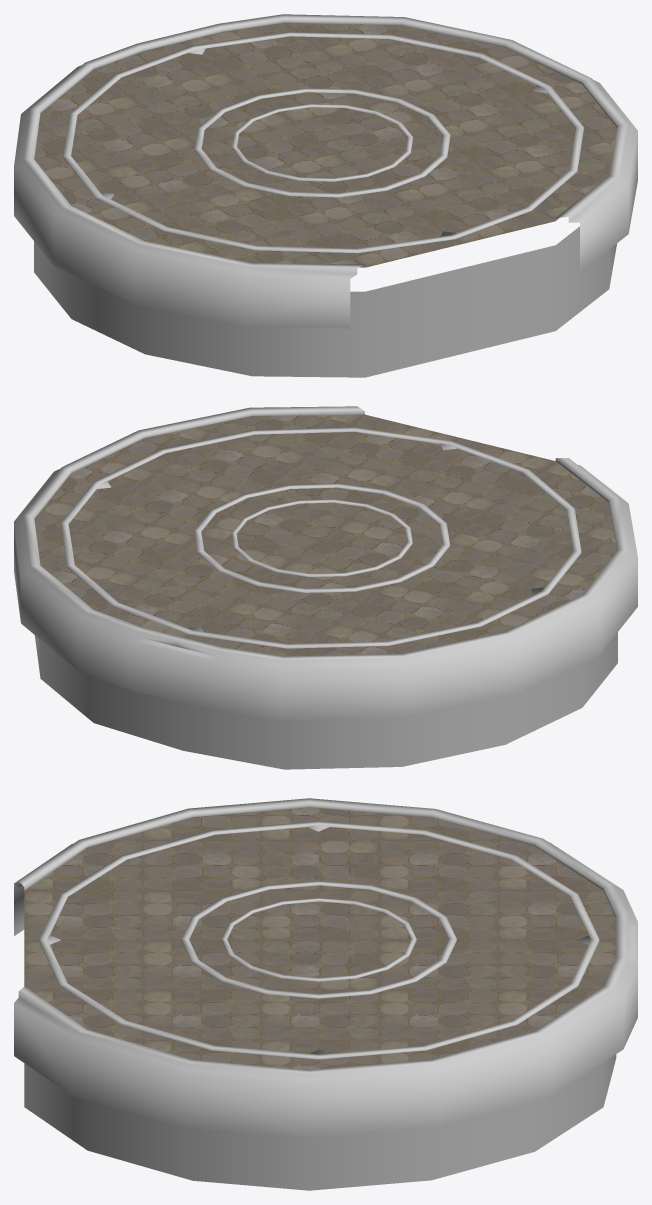
The model's file is t_pngtai09.FBX.
The picture shows the model from 3 angles, top to bottom: view 1: azimuth 30°, elevation 25°; view 2: azimuth 150°, elevation 25°; view 3: azimuth 270°, elevation 25°; orthographic projection. The views are drawn at different scales.
Parts seen in each view (by area): view 1: t_pngtai09_dimian, t_pngtai09_qiang; view 2: t_pngtai09_dimian, t_pngtai09_qiang; view 3: t_pngtai09_dimian, t_pngtai09_qiang.
Part boxes in pixels (x1=…): t_pngtai09_dimian: x1=34, y1=22, x2=617, y2=267; t_pngtai09_qiang: x1=14, y1=14, x2=637, y2=377; t_pngtai09_dimian: x1=34, y1=414, x2=617, y2=656; t_pngtai09_qiang: x1=14, y1=406, x2=637, y2=769; t_pngtai09_dimian: x1=24, y1=807, x2=616, y2=1069; t_pngtai09_qiang: x1=14, y1=798, x2=637, y2=1190.
Bounding box in the file's own units: 3431 × 683 × 3182.
